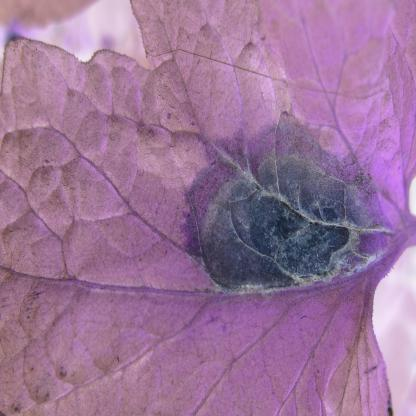Tomato leaf mosaic virus: (4, 6, 412, 402)
